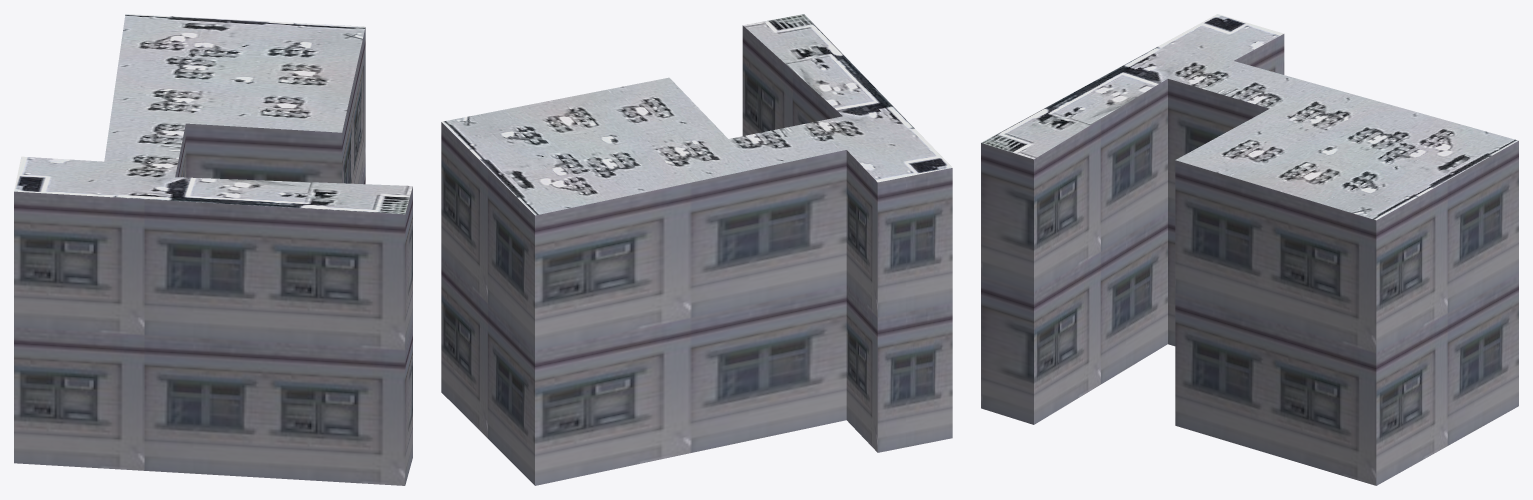
The model's file is ResTex__3822.fbx.
The picture shows the model from 3 angles, left to right: view 1: azimuth 30°, elevation 25°; view 2: azimuth 150°, elevation 25°; view 3: azimuth 270°, elevation 25°; orthographic projection. The views are drawn at different scales.
Visible parts, largest first — view 1: CityEngineMaterial_1_m, CityEngineMaterial_2_m; view 2: CityEngineMaterial_1_m, CityEngineMaterial_2_m; view 3: CityEngineMaterial_1_m, CityEngineMaterial_2_m.
Boxes of the visible parts, x1,y1,x2,y2 form: CityEngineMaterial_1_m: (14,27,412,485); CityEngineMaterial_2_m: (14,14,412,214); CityEngineMaterial_1_m: (441,25,952,485); CityEngineMaterial_2_m: (441,14,952,215); CityEngineMaterial_1_m: (981,34,1518,485); CityEngineMaterial_2_m: (981,14,1518,220).
Bounding box in the file's own units: 10 × 6 × 11.01.
2 materials, 2 textured.
